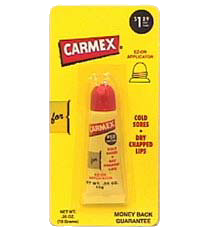grozi_47: (49, 4, 160, 226)
